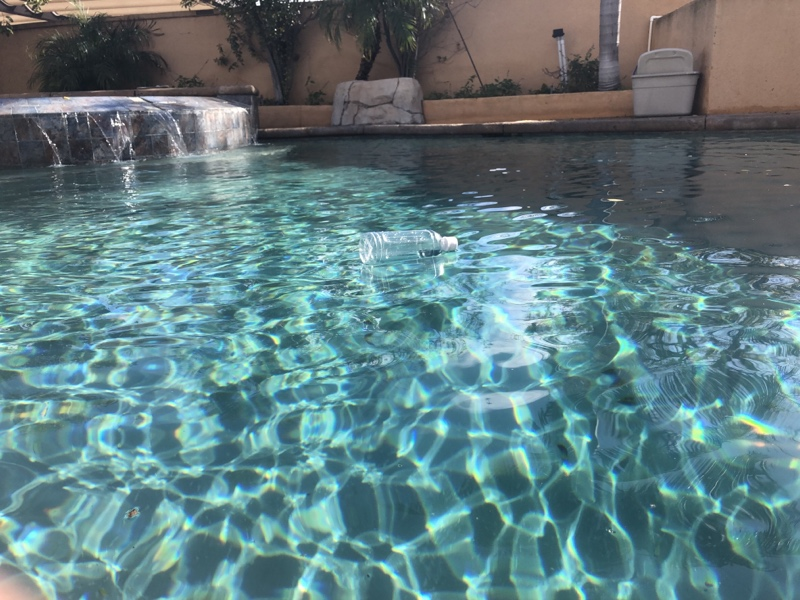Plastic Bottle: (357, 224, 460, 268)
